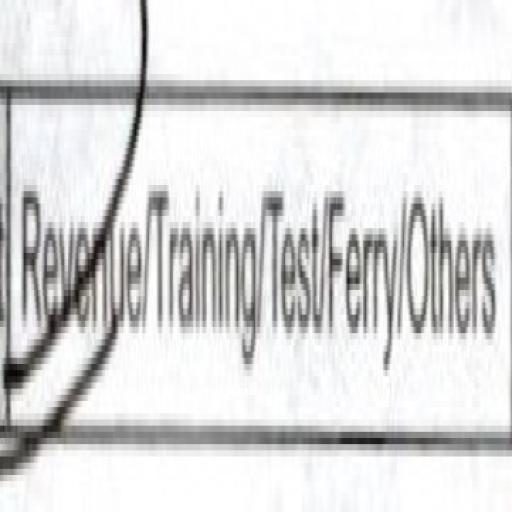check: (1, 13, 146, 447)
